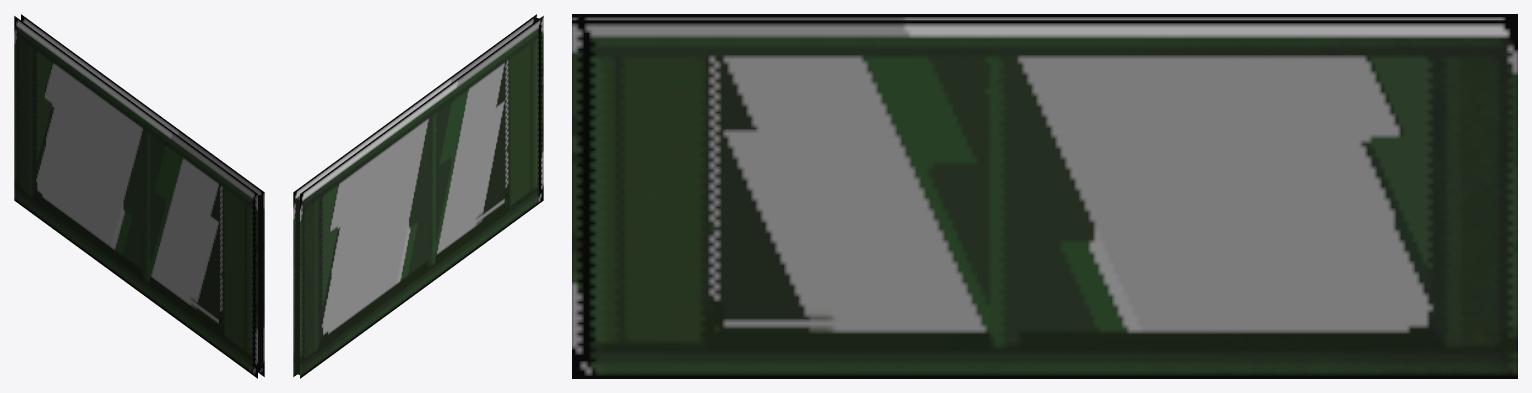
The model's file is pz_native_location_shop_greenes_01_78_frame.obj.
The picture shows the model from 3 angles, left to right: view 1: azimuth 30°, elevation 25°; view 2: azimuth 150°, elevation 25°; view 3: azimuth 270°, elevation 25°; orthographic projection. The views are drawn at different scales.
Visible parts, largest first — view 1: pz_native_location_shop_greenes_01_78_frame; view 2: pz_native_location_shop_greenes_01_78_frame; view 3: pz_native_location_shop_greenes_01_78_frame.
Part boxes in pixels (left/top/right/bottom): pz_native_location_shop_greenes_01_78_frame: left=14, top=14, right=264, bottom=378; pz_native_location_shop_greenes_01_78_frame: left=293, top=14, right=543, bottom=378; pz_native_location_shop_greenes_01_78_frame: left=572, top=14, right=1517, bottom=378.
Bounding box in the file's own units: 0.04 × 1.06 × 2.54.
Materials: 1 (1 with a texture image).
